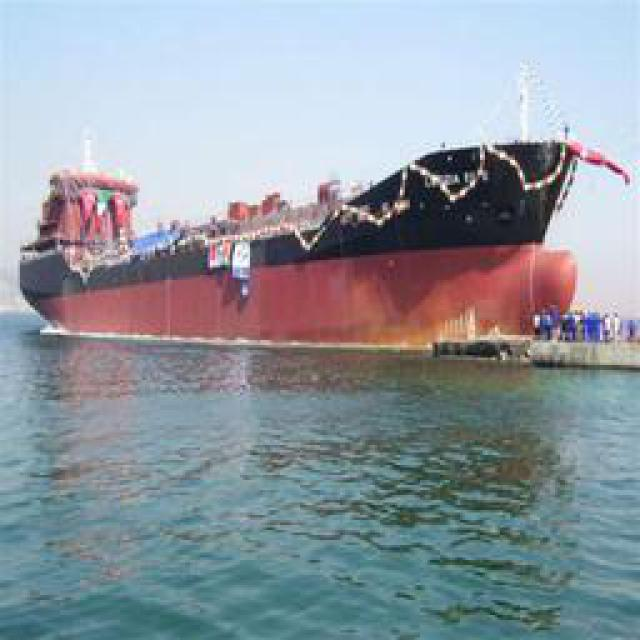Ship: (21, 130, 626, 358)
